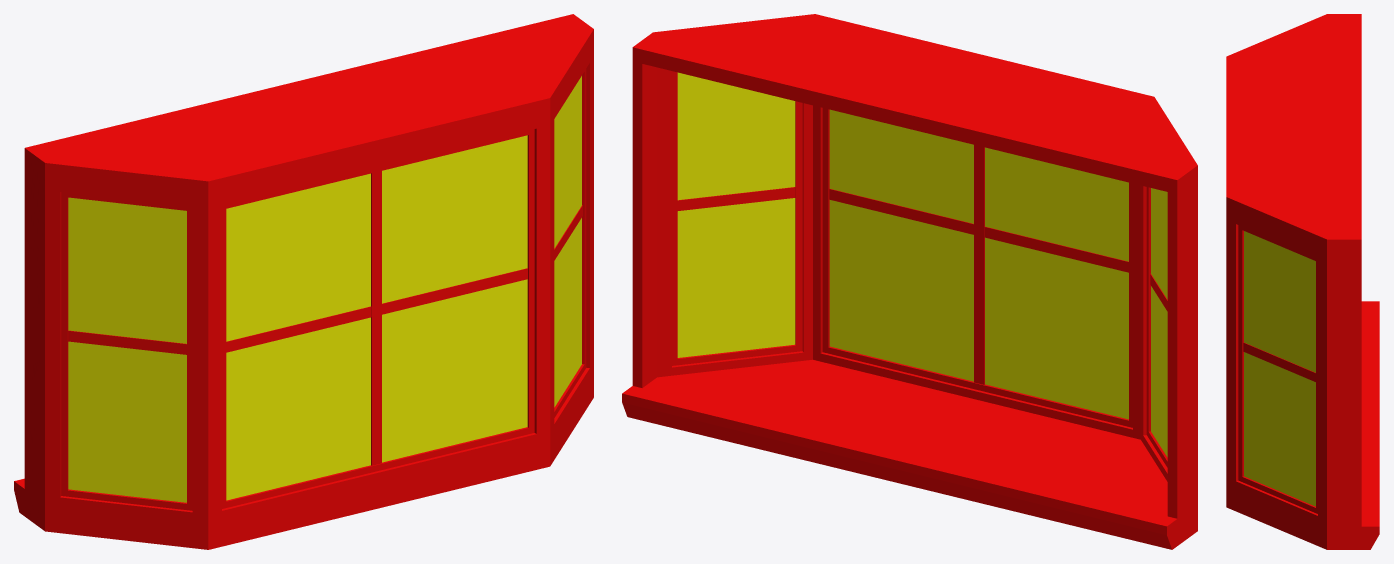
File: window_bay_2.glb
3 renders of one model, left to right at view 1: azimuth 30°, elevation 25°; view 2: azimuth 150°, elevation 25°; view 3: azimuth 270°, elevation 25°, orthographic. The views are drawn at different scales.
Visible parts, largest first — view 1: window_bay_2; view 2: window_bay_2; view 3: window_bay_2.
Part boxes in pixels (<box>): window_bay_2: <box>14,14,593,549</box>; window_bay_2: <box>622,14,1197,549</box>; window_bay_2: <box>1226,14,1379,549</box>.
Size of the model in its own units: 1.75 by 1.12 by 0.5009.
